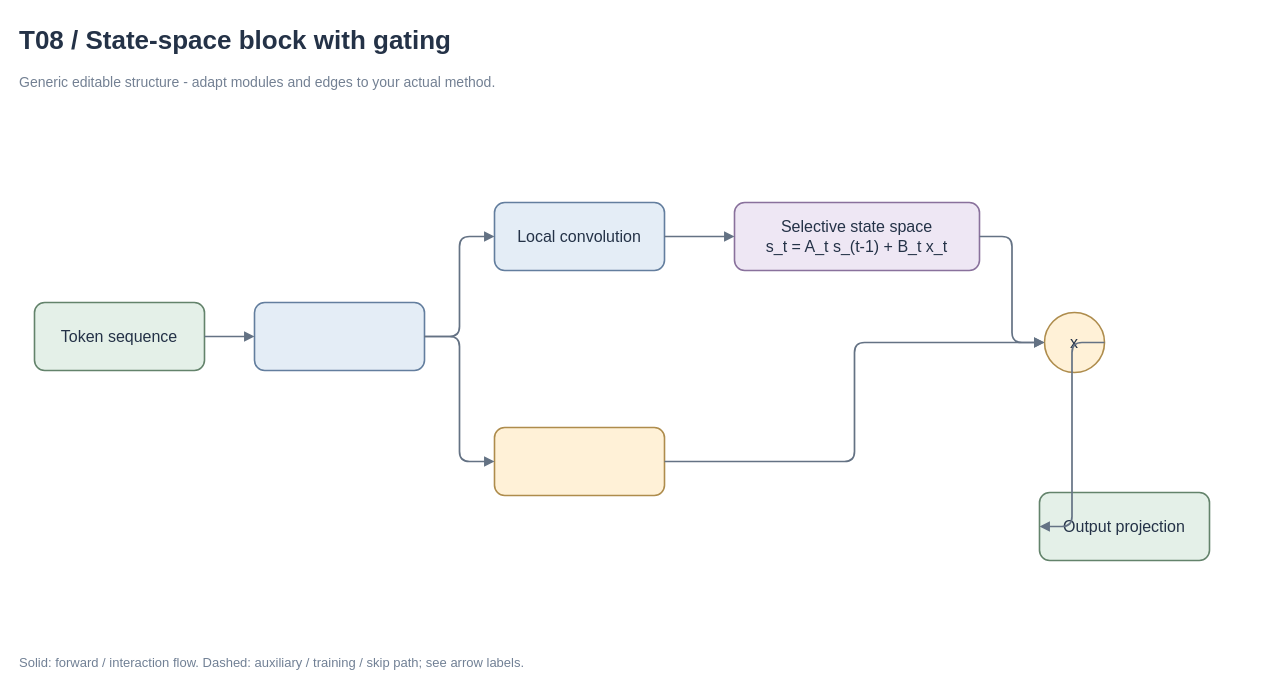
The diagram is 1264 pixels wide and 695 high, and some of its shapes have lost their labels. Each missing label, with the centre of its shape:
"Gating branch" belongs at point (579, 461).
"Input projection" belongs at point (339, 336).
